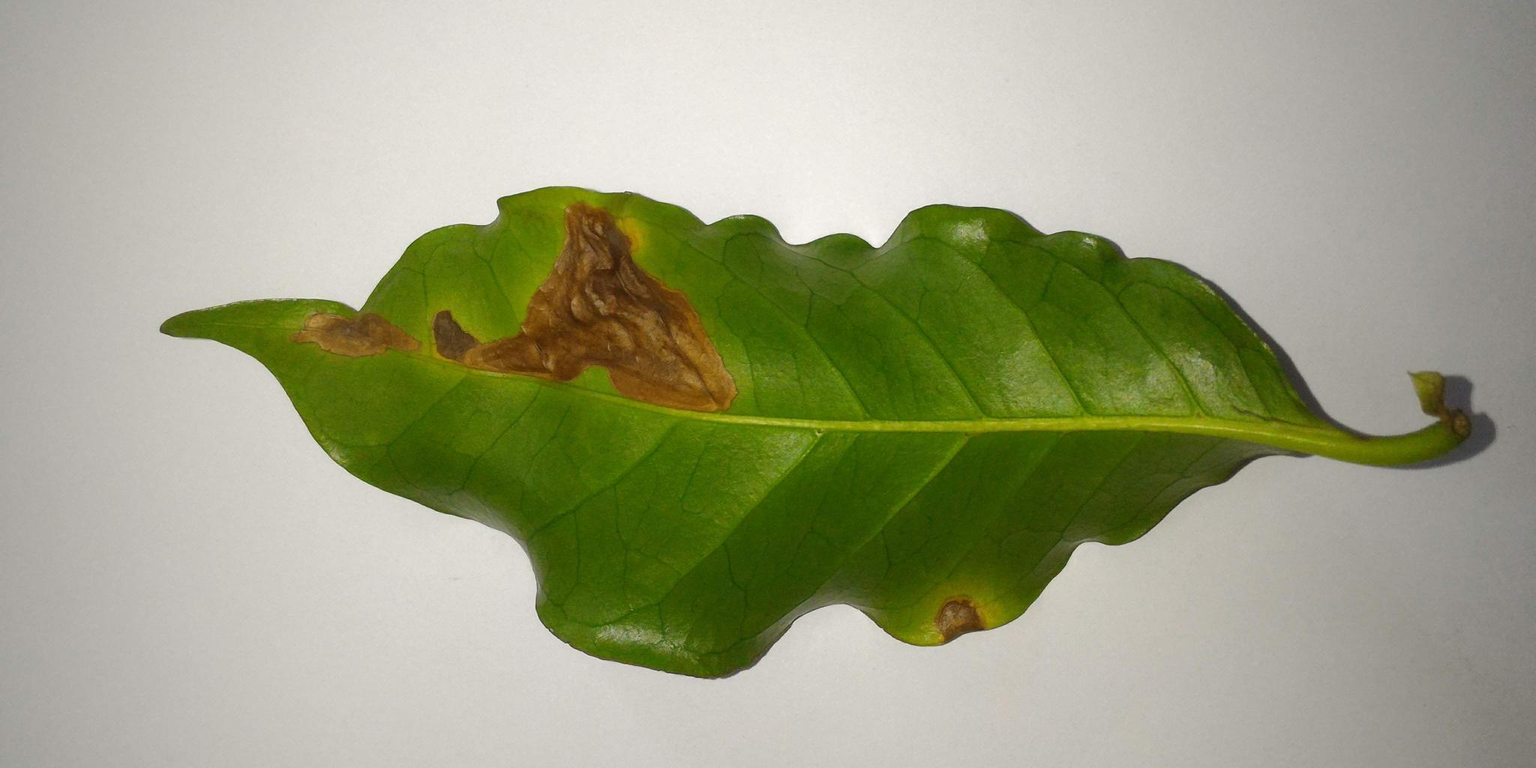Miner: (430, 194, 744, 419), (285, 283, 426, 390)
